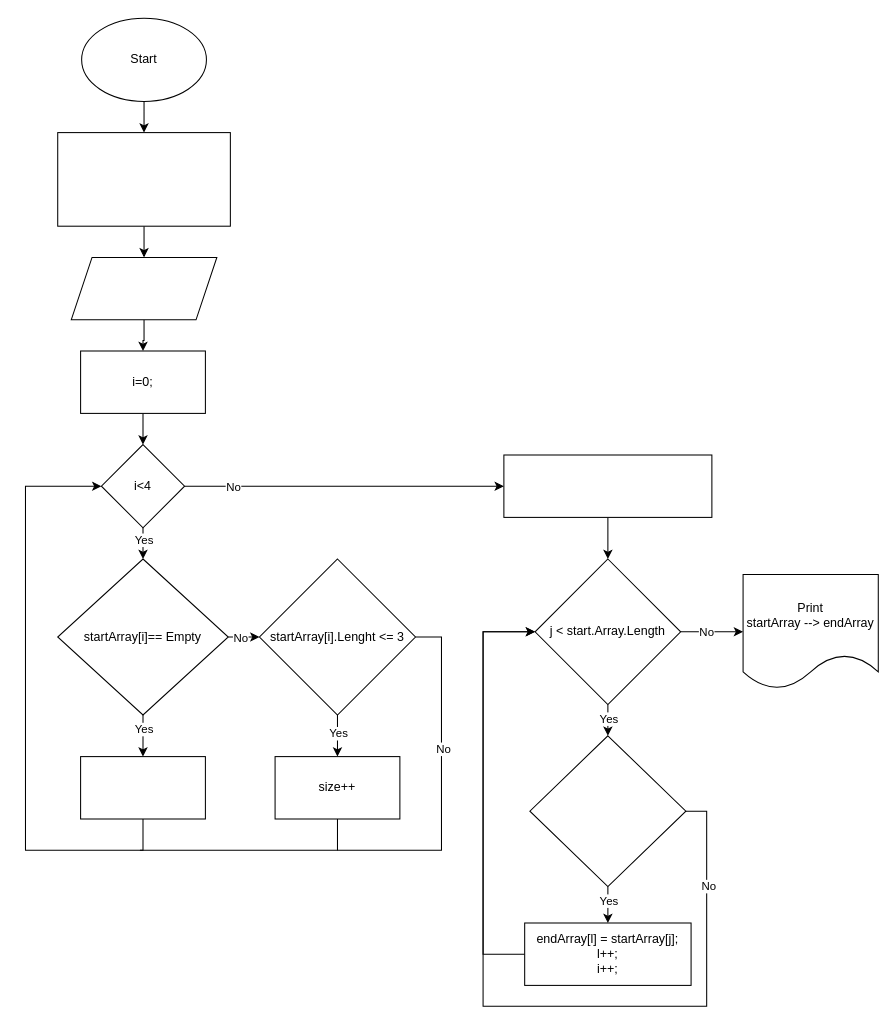
The diagram is 896 pixels wide and 1033 high, and some of its shapes have lost their labels. Here are the shapes that lost their labels. From the top down, the box of each, then its label:
(57, 132, 230, 226): int size = 0; string[] startArray = string [4];
(70, 256, 217, 320): Ввод данных в исходный массив
(503, 454, 712, 517): string[] endArray = new string [size]; l = 0
(80, 756, 205, 819): i--
(529, 735, 686, 887): startArray[j].Length <= 3
